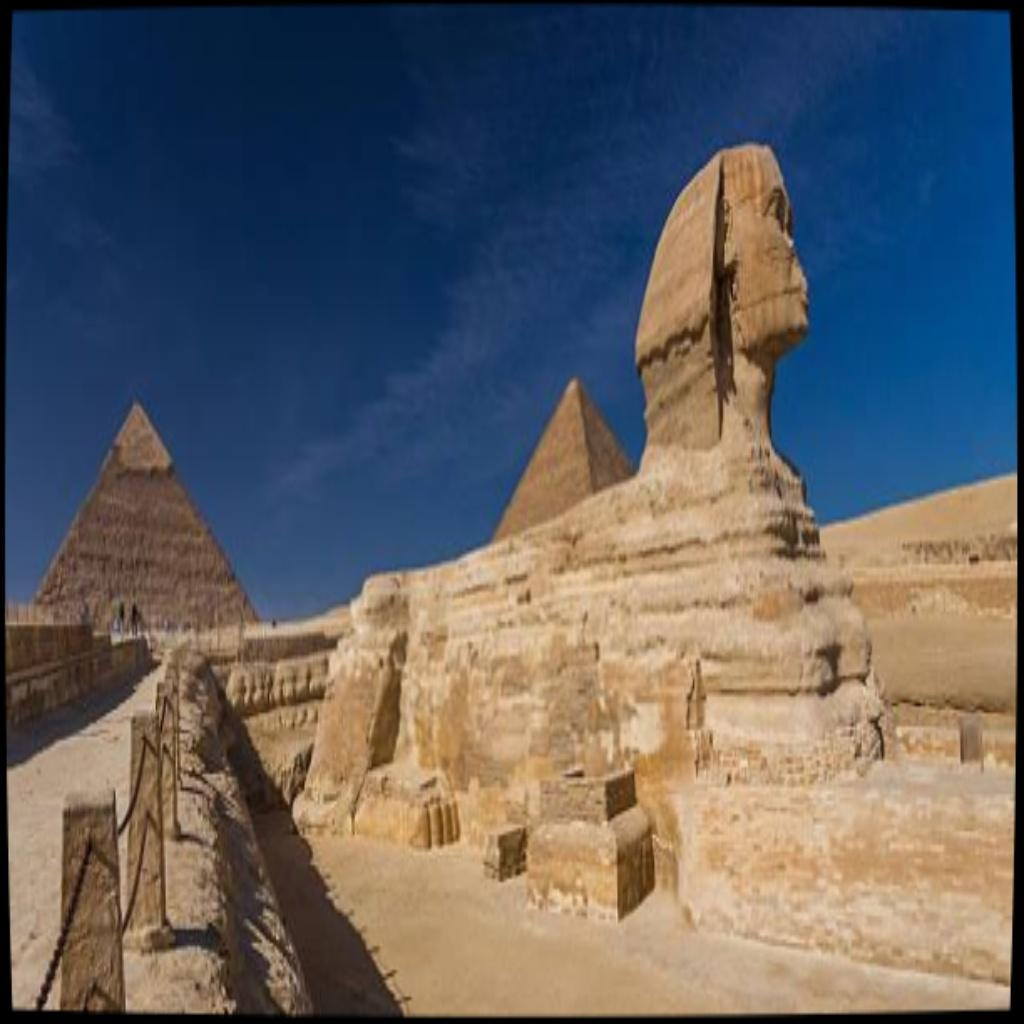Sphinx: (290, 135, 892, 862), (632, 136, 812, 476)
